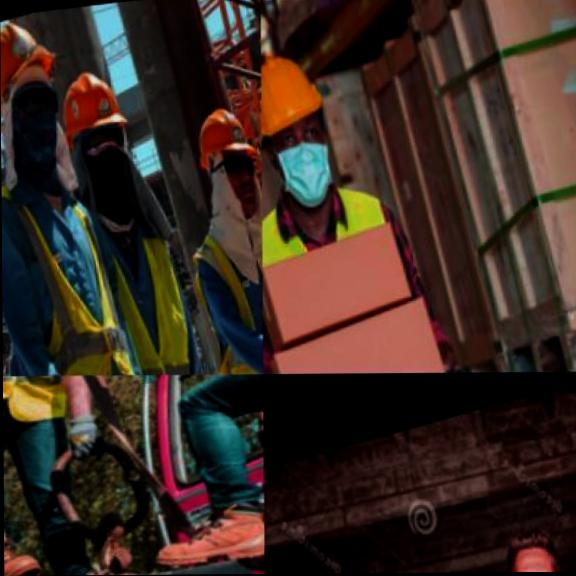safety_vest: (263, 163, 450, 373), (1, 151, 149, 375), (93, 192, 224, 374), (178, 207, 263, 373)
